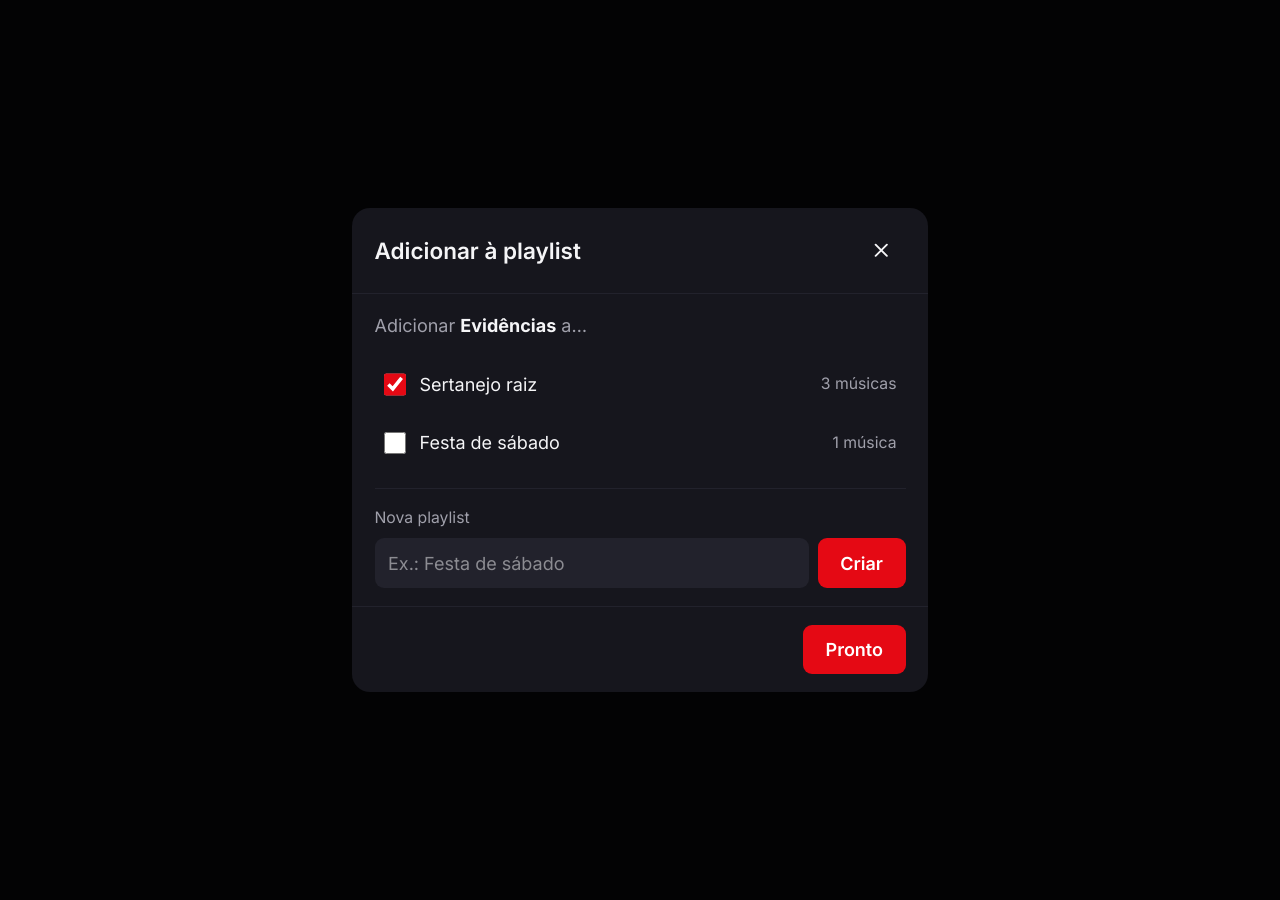
Test: PlaylistPicker › does not create a playlist without a name
Expected: the checkbox labelled "Sertanejo raiz 3 músicas" is shown, [384,373,406,396]
Click the button "Criar": [862, 563] box [818,538,906,588]
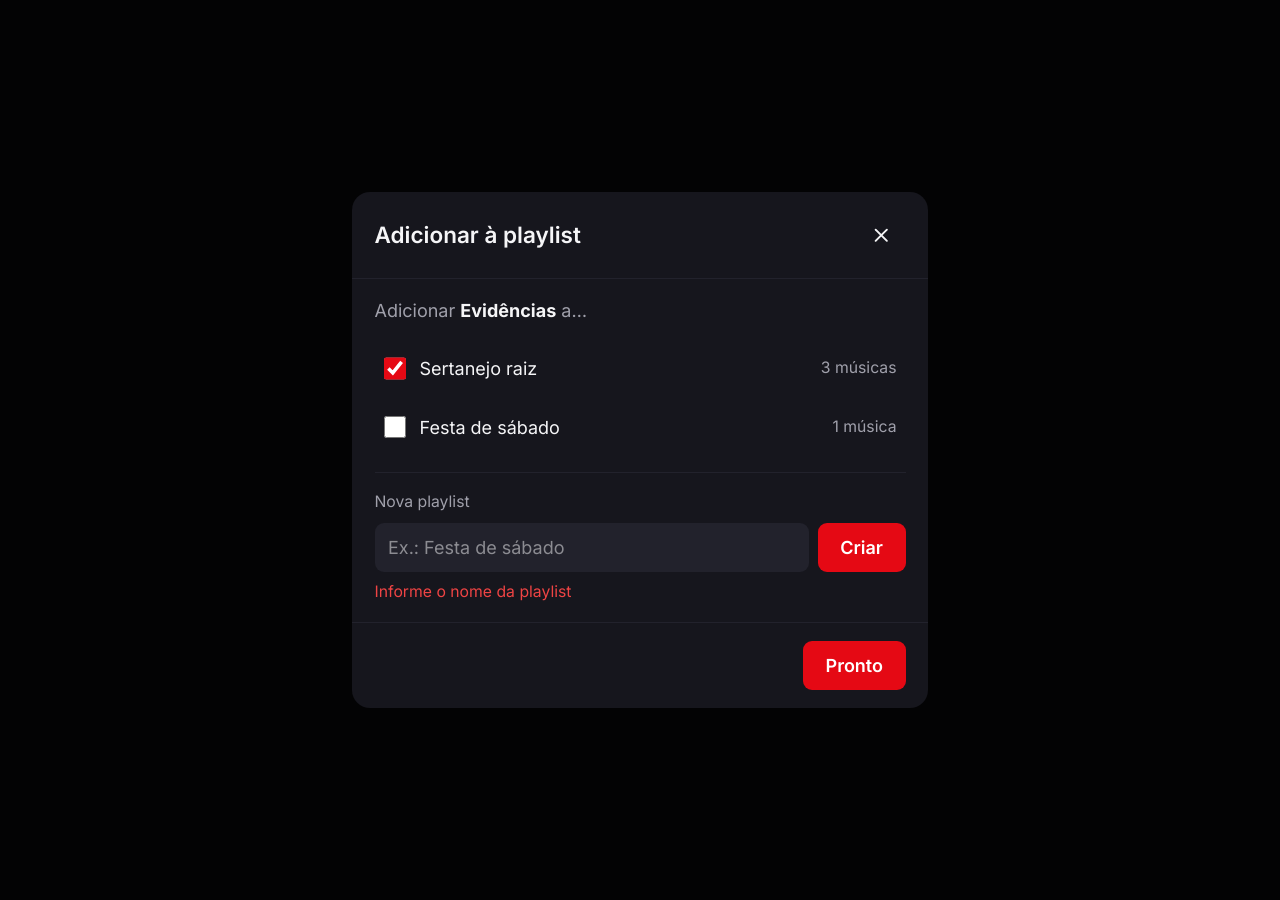
Now the message reads "Informe o nome da playlist", box [374,582,572,601]
